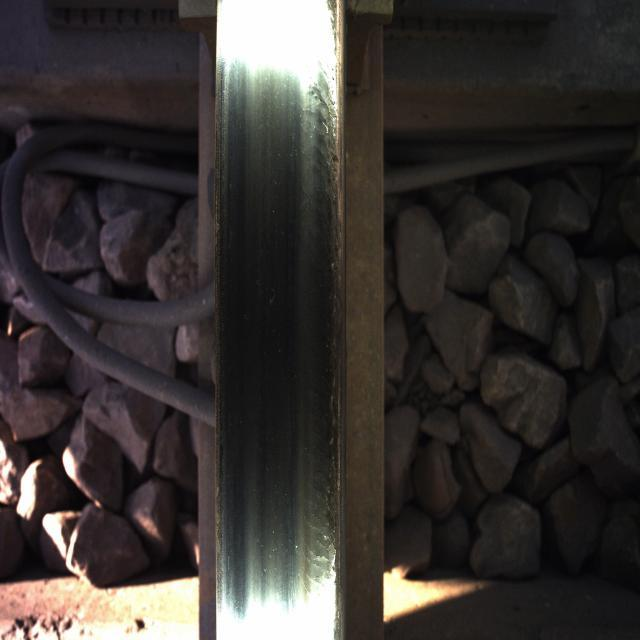scar: (286, 54, 344, 598)
